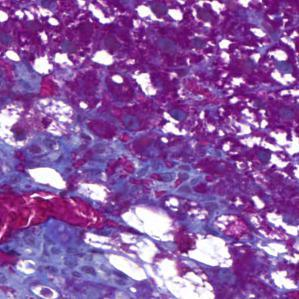ballooning: (82, 202, 233, 294)
